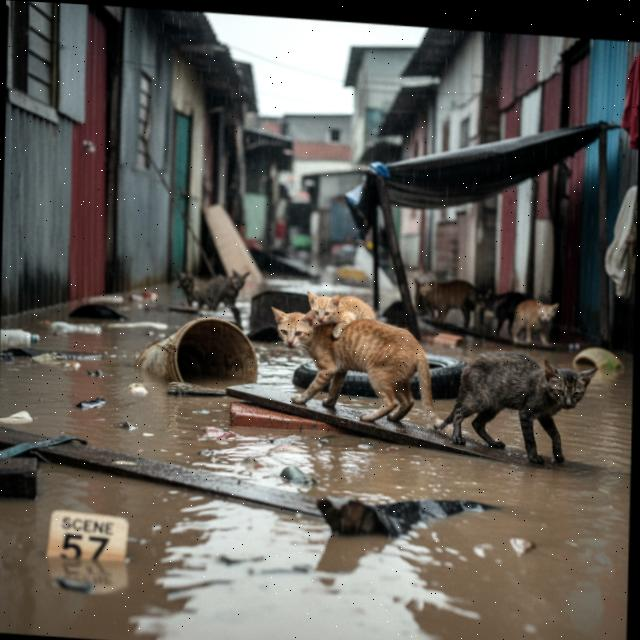cat: (261, 301, 473, 444), (432, 339, 599, 467), (299, 284, 384, 346), (408, 274, 492, 333), (475, 285, 529, 342), (511, 295, 562, 350)
